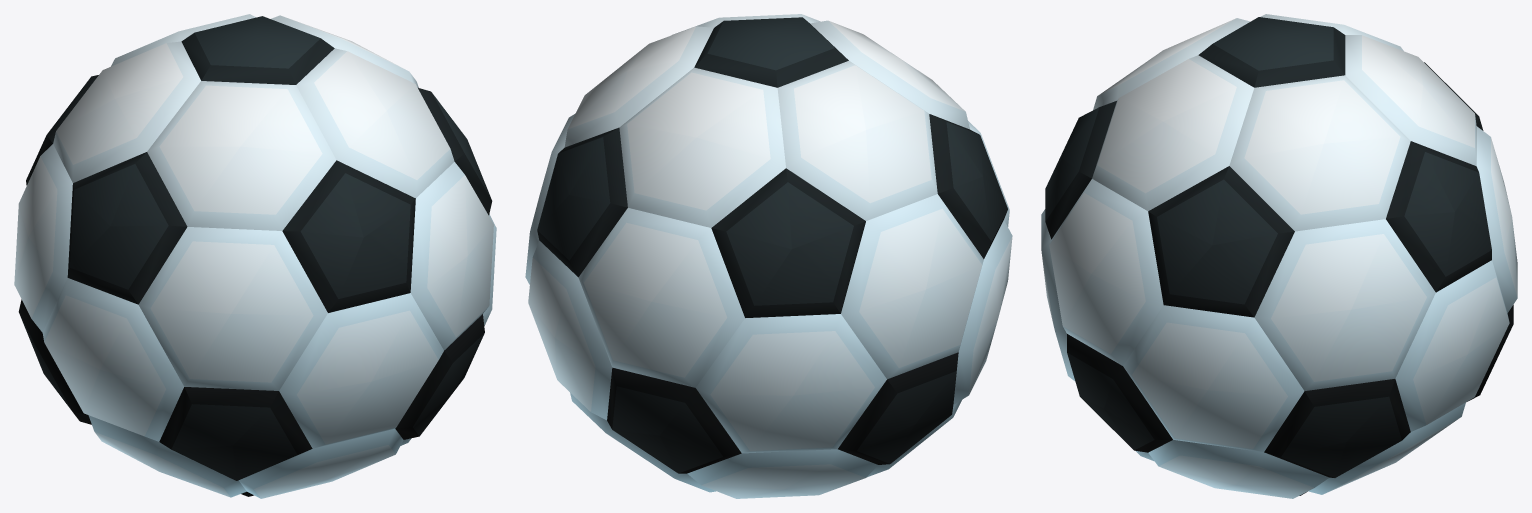
Rendered from football.glb.
The picture shows the model from 3 angles, left to right: view 1: azimuth 30°, elevation 25°; view 2: azimuth 150°, elevation 25°; view 3: azimuth 270°, elevation 25°; orthographic projection.
Parts seen in each view (by area): view 1: football; view 2: football; view 3: football.
Part boxes in pixels (x1,y1,x2,y2): football: (14,14,496,498); football: (525,14,1012,498); football: (1041,14,1517,498).
Bounding box in the file's own units: 0.5689 × 0.5768 × 0.5665.
Materials: 1 (1 with a texture image).
